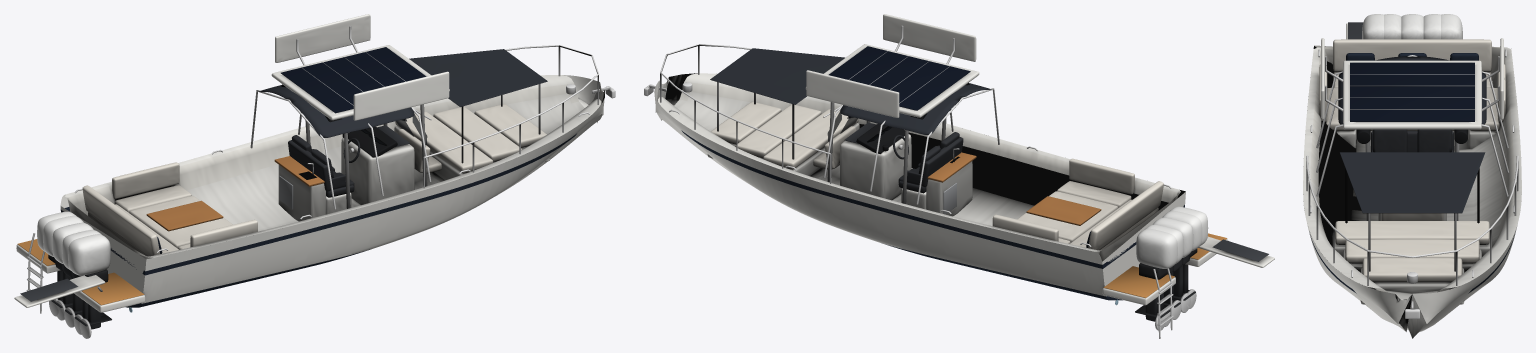
File: demo-32.glb
The picture shows the model from 3 angles, left to right: view 1: azimuth 30°, elevation 25°; view 2: azimuth 150°, elevation 25°; view 3: azimuth 270°, elevation 25°; orthographic projection. The views are drawn at different scales.
Visible parts, largest first — view 1: casco, conves, solario_proa, mod_ttop_solar, sofa_popa, mod_rack, mod_toldo_proa, consola, mod_bimini, mod_wetbar, mod_motor_2c_1, mod_mesa_solario (+13 smaller); view 2: casco, conves, solario_proa, mod_ttop_solar, sofa_popa, mod_rack, mod_toldo_proa, consola, mod_bimini, mod_wetbar, mod_motor_2c_2, mod_mesa_solario (+14 smaller); view 3: conves, mod_ttop_solar, mod_toldo_proa, solario_proa, casco, sofa_popa, mod_bimini, mod_bancos_individuais, mod_ttop_fibra, mod_balaustrada, solario_base, mod_rack (+12 smaller).
Part boxes in pixels (bbox=[...]): casco: bbox=[60, 75, 604, 307]; conves: bbox=[65, 75, 601, 259]; solario_proa: bbox=[395, 104, 546, 173]; mod_ttop_solar: bbox=[271, 46, 449, 208]; sofa_popa: bbox=[82, 162, 257, 256]; mod_rack: bbox=[275, 14, 449, 120]; mod_toldo_proa: bbox=[409, 49, 547, 163]; consola: bbox=[341, 138, 414, 204]; mod_bimini: bbox=[250, 85, 431, 209]; mod_wetbar: bbox=[274, 156, 325, 221]; mod_motor_2c_1: bbox=[68, 234, 111, 338]; mod_mesa_solario: bbox=[129, 195, 232, 248]; casco: bbox=[654, 73, 1185, 300]; conves: bbox=[658, 73, 1180, 261]; solario_proa: bbox=[711, 101, 858, 169]; mod_ttop_solar: bbox=[805, 44, 979, 203]; sofa_popa: bbox=[992, 158, 1163, 250]; mod_rack: bbox=[806, 14, 976, 117]; mod_toldo_proa: bbox=[710, 48, 849, 159]; consola: bbox=[840, 134, 911, 200]; mod_bimini: bbox=[823, 83, 999, 204]; mod_wetbar: bbox=[926, 148, 976, 216]; mod_motor_2c_2: bbox=[1135, 228, 1177, 330]; mod_mesa_solario: bbox=[1017, 191, 1118, 242]; conves: bbox=[1303, 46, 1521, 299]; mod_ttop_solar: bbox=[1343, 60, 1481, 220]; mod_toldo_proa: bbox=[1339, 152, 1485, 271]; solario_proa: bbox=[1335, 213, 1489, 282]; casco: bbox=[1307, 45, 1521, 338]; sofa_popa: bbox=[1319, 39, 1505, 130]; mod_bimini: bbox=[1316, 55, 1508, 196]; mod_bancos_individuais: bbox=[1371, 129, 1453, 152]; mod_ttop_fibra: bbox=[1343, 60, 1481, 220]; mod_balaustrada: bbox=[1306, 155, 1518, 285]; solario_base: bbox=[1332, 233, 1492, 304]; mod_rack: bbox=[1321, 38, 1504, 119].
Bounding box in the file's own units: 11.64 × 3.64 × 3.15.
